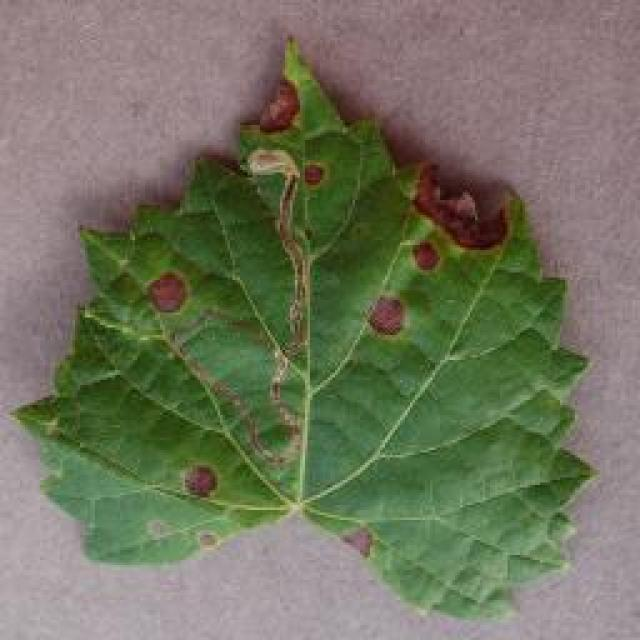Grape___Black_rot: (6, 27, 601, 625)
